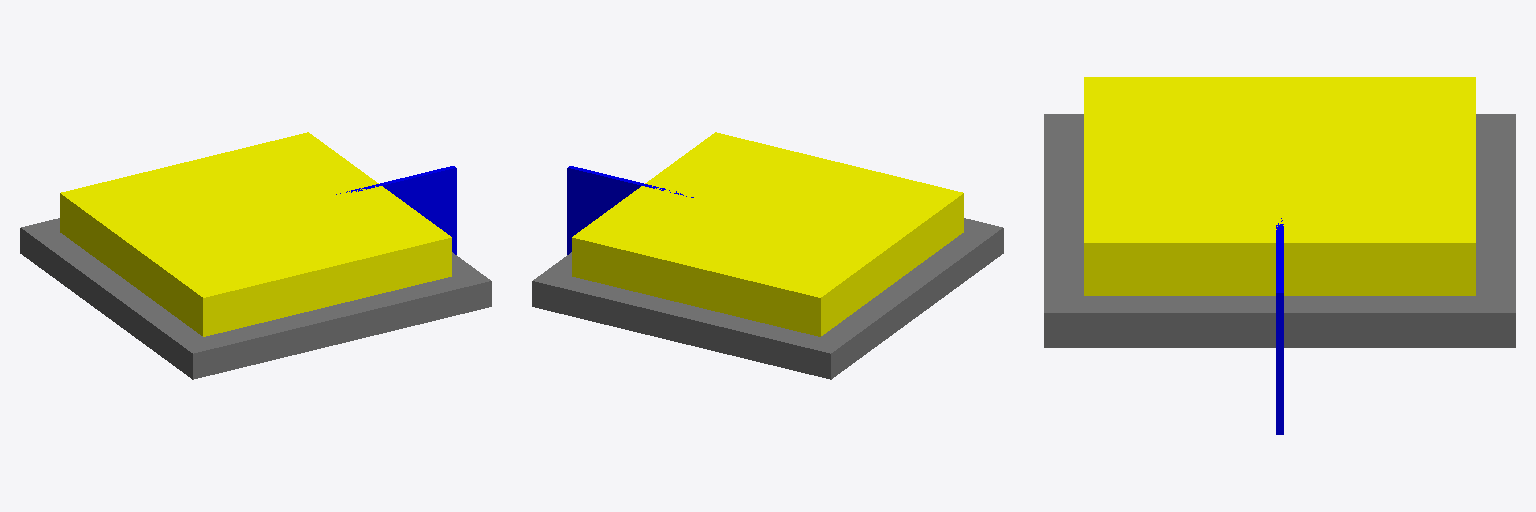
The robot description file, URDF, robot "fork_lift":
<?xml version="1.0"?>
<robot name="fork_lift">
    <!-- Base Link -->
    <link name="base_link">
        <visual>
            <geometry>
                <box size="0.6 0.6 0.05"/>
            </geometry>
            <origin rpy="0 0 0" xyz="0 0 0.025"/>
            <material name="gray">
                <color rgba="0.5 0.5 0.5 1"/>
            </material>
        </visual>
    </link>

    <!-- Pan (Base) Joint -->
    <joint name="pan_joint" type="revolute">
        <parent link="base_link"/>
        <child link="pan_link"/>
        <origin xyz="0 0 0.025"/>
        <axis xyz="0 0 1"/>
        <limit effort="300.0" velocity="0.1" lower="-3.14" upper="3.14"/>
        <dynamics damping="50" friction="1"/>
    </joint>

    <!-- Pan Link (Base) -->
    <link name="pan_link">
        <visual>
            <geometry>
                <box size="0.5 0.5 0.1"/>
            </geometry>
            <origin rpy="0 0 0" xyz="0 0 0.05"/>
            <material name="yellow">
                <color rgba="1 1 0 1"/>
            </material>
        </visual>
    </link>

    <!-- Tilt (Fork) Joint -->
    <joint name="tilt_joint" type="revolute">
        <parent link="pan_link"/>
        <child link="fork_link"/>
        <origin xyz="0.2 0 0"/>
        <axis xyz="0 1 0"/>
        <limit effort="300.0" velocity="1.0" lower="-4.71239" upper="-1.570796"/>
        <dynamics damping="50" friction="1"/>
    </joint>

    <!-- Fork Link (Tilt) -->
    <link name="fork_link">
        <visual>
            <geometry>
                <box size="0.2 0.01 0.4"/>
            </geometry>
            <origin rpy="0 1.570796 0" xyz="0 0 0"/>
            <material name="blue">
                <color rgba="0 0 1 1"/>
            </material>
        </visual>
    </link>
</robot>

--- Facts derived from the render (not from the file) ---
The picture shows the robot from 3 angles, left to right: view 1: azimuth 30°, elevation 25°; view 2: azimuth 150°, elevation 25°; view 3: azimuth 270°, elevation 25°; orthographic projection.
Robot: fork_lift — 3 links, 2 joints (2 revolute); root link base_link; default pose: joints at zero except 1 at the middle of their limits (tilt_joint = -3.14).
Visible links, largest first — view 1: pan_link, base_link, fork_link; view 2: pan_link, base_link, fork_link; view 3: pan_link, base_link, fork_link.
Link boxes in pixels (left/top/right/bottom): pan_link: left=60, top=132, right=451, bottom=336; base_link: left=20, top=218, right=491, bottom=379; fork_link: left=336, top=166, right=456, bottom=254; pan_link: left=572, top=132, right=963, bottom=336; base_link: left=532, top=218, right=1003, bottom=379; fork_link: left=567, top=166, right=693, bottom=254; pan_link: left=1084, top=77, right=1475, bottom=295; base_link: left=1044, top=114, right=1515, bottom=347; fork_link: left=1276, top=218, right=1283, bottom=434.
Size in the robot's own frame: 0.7 by 0.6 by 0.2 metres.
Geometry: primitives only (box / cylinder / sphere), no mesh files.